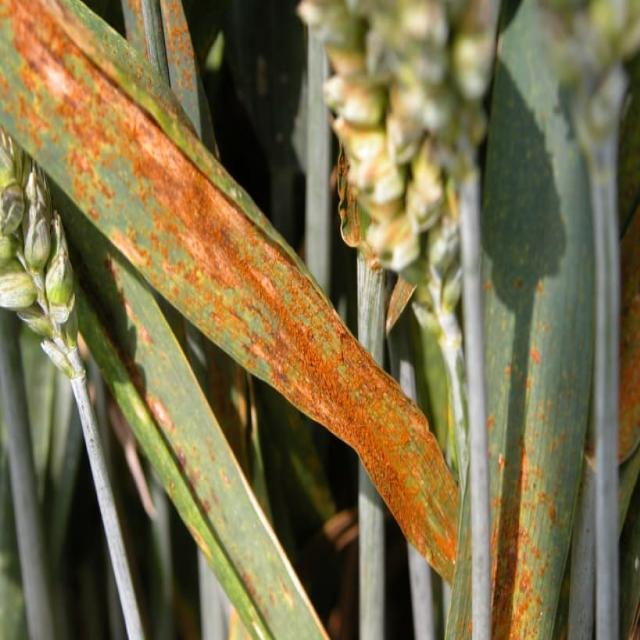leaf_rust: (0, 0, 456, 578), (481, 0, 593, 639)
